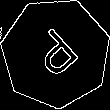P_SE: (25, 22, 86, 84)
